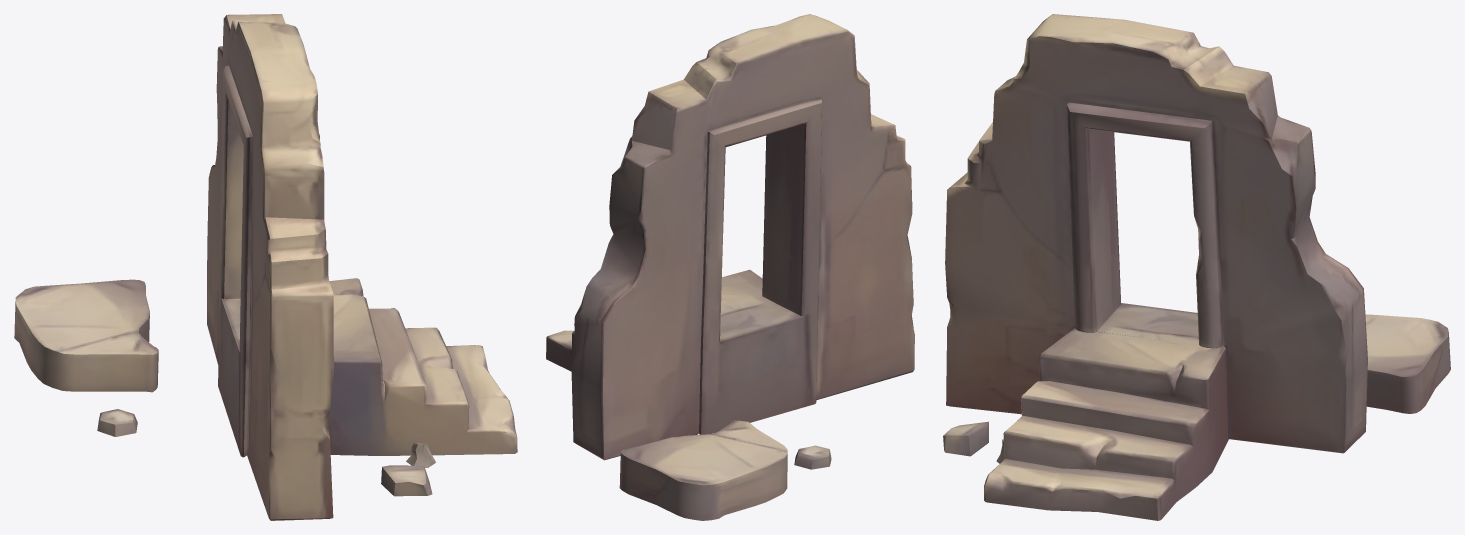
Rendered from SM_RuinArchStairs_01.fbx.
3 views of the same model, side by side, from view 1: azimuth 30°, elevation 25°; view 2: azimuth 150°, elevation 25°; view 3: azimuth 270°, elevation 25° (orthographic). The views are drawn at different scales.
Parts seen in each view (by area): view 1: SM_RuinArchStairs_01; view 2: SM_RuinArchStairs_01; view 3: SM_RuinArchStairs_01.
Part boxes in pixels (x1,y1,x2,y2): SM_RuinArchStairs_01: [14, 14, 517, 520]; SM_RuinArchStairs_01: [546, 14, 914, 520]; SM_RuinArchStairs_01: [943, 14, 1450, 520].
Bounding box in the file's own units: 68.69 × 75.29 × 88.49.
Materials: 1 (1 with a texture image).
